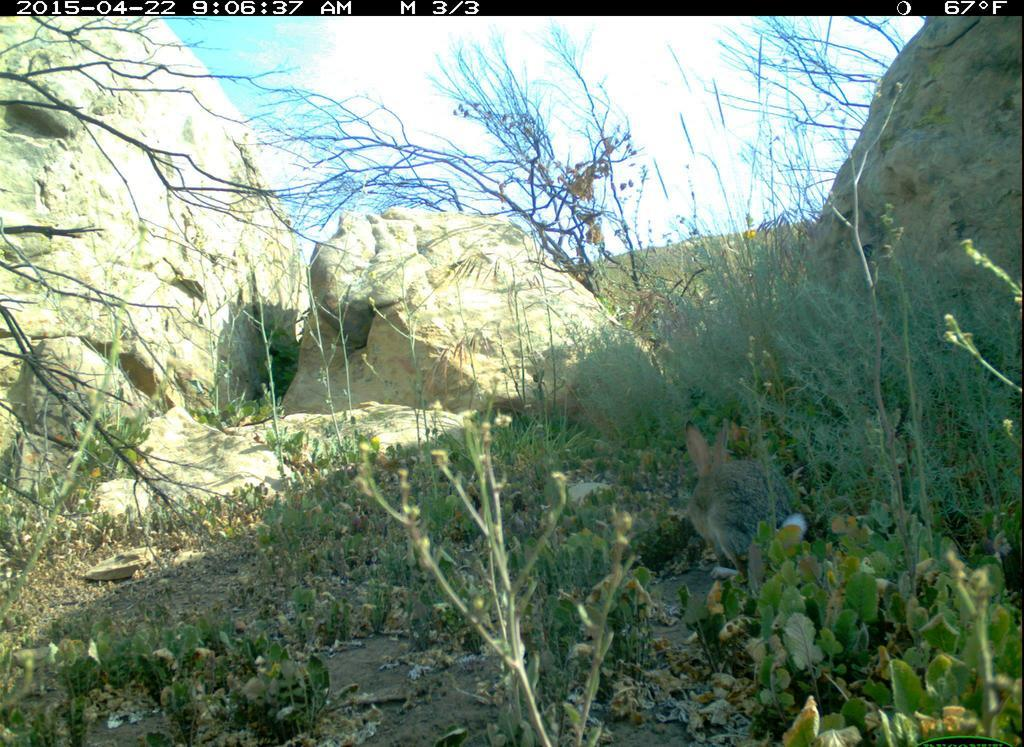rabbit: (649, 406, 833, 598)
